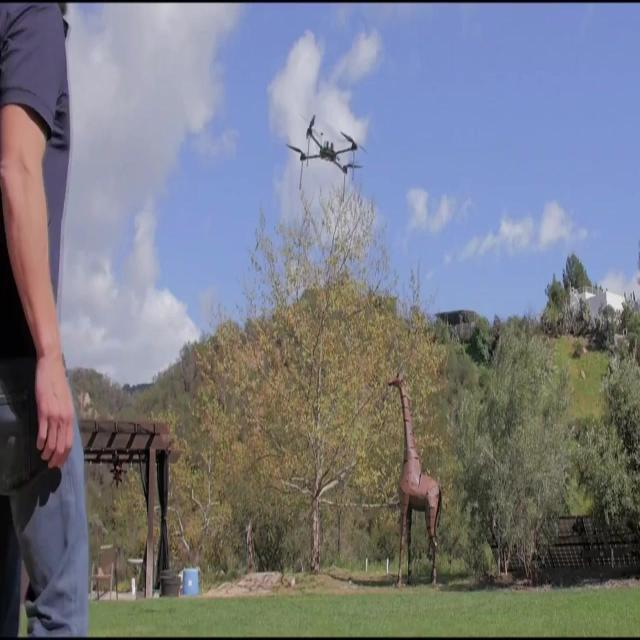drone: (285, 111, 362, 190)
